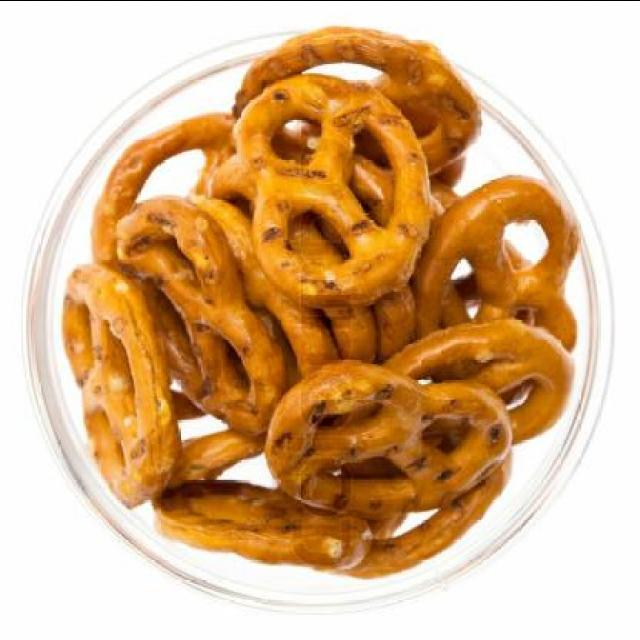Salatini packaged: (58, 25, 586, 581)
